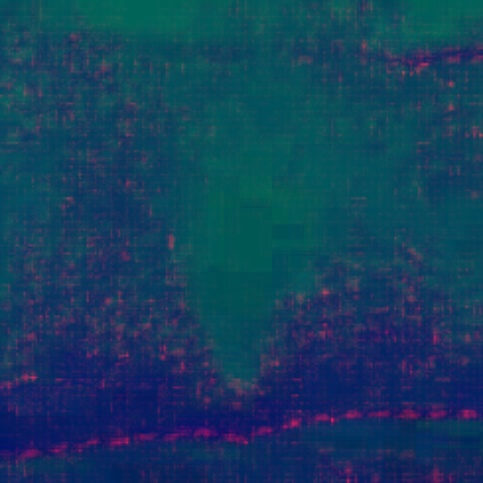rip_current: (144, 63, 357, 387)
